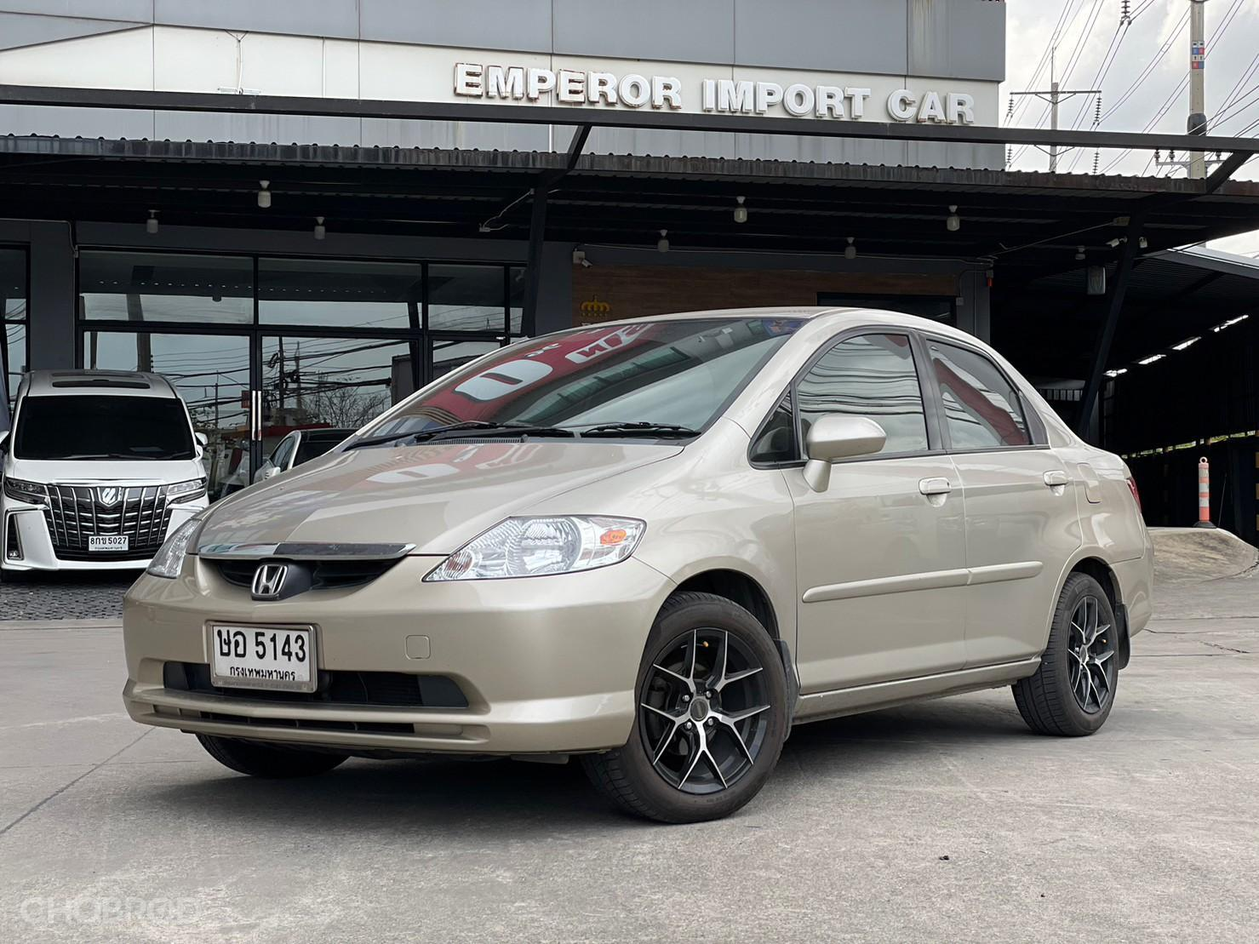license-plate: (193, 616, 332, 701)
